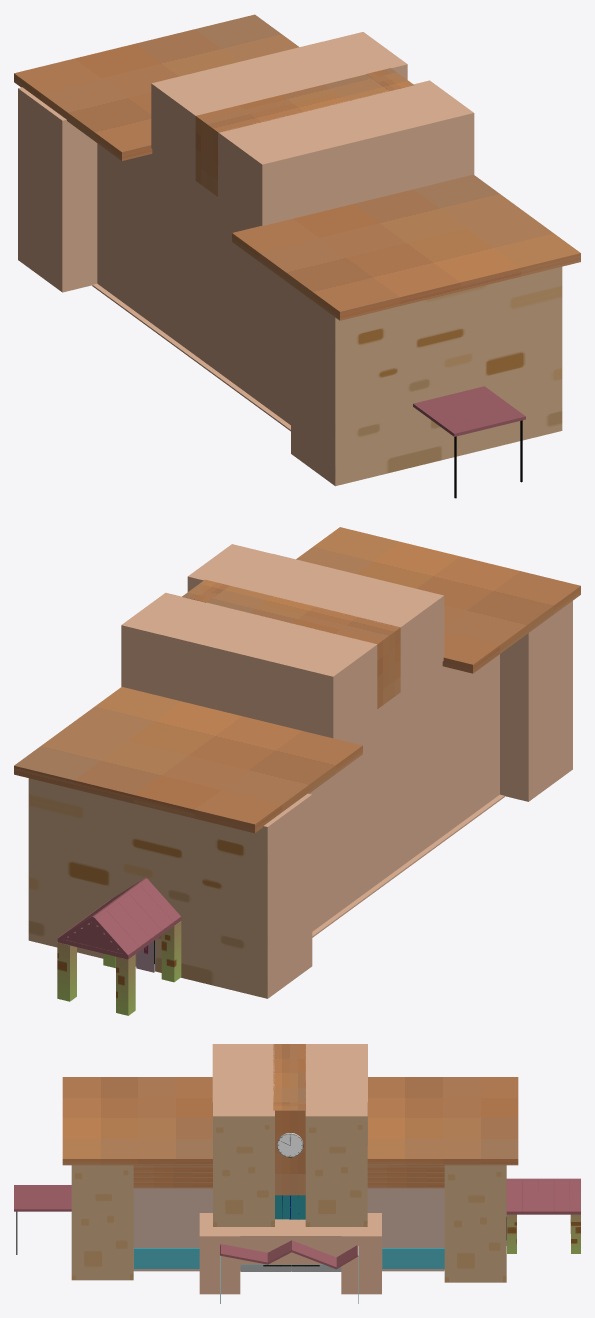
File: FachadaV5.obj
The picture shows the model from 3 angles, top to bottom: view 1: azimuth 30°, elevation 25°; view 2: azimuth 150°, elevation 25°; view 3: azimuth 270°, elevation 25°; orthographic projection. The views are drawn at different scales.
Parts seen in each view (by area): view 1: pasted__pasted__pCube2 pasted__group5 group6, pasted__pCube1 group, pasted__pCube1 group4, pasted__pasted__pasted__pasted__pCube2 pasted__pasted__pasted__g, pasted__pasted__pCube1 pasted__group4 group18, pasted__pCube2 group5, pasted__pasted__pasted__pCube2 pasted__pasted__group5 pasted__gr, group14 pasted__pasted__pasted__pasted__pCube2 pasted__pasted__p, group12 pasted__pasted__pasted__pasted__pasted__pCube2 pasted__p, pCube9, pasted__pasted__pasted__pasted__pasted__pasted__pCube2 pasted__p, pCube1; view 2: pasted__pCube2 group5, pasted__pCube1 group, pasted__pasted__pCube1 pasted__group4 group18, pasted__pasted__pasted__pCube2 pasted__pasted__group5 pasted__gr, pasted__pCube1 group4, pasted__pasted__pCube2 pasted__group5 group6, pasted__pasted__pasted__pasted__pCube2 pasted__pasted__pasted__g, group14 pasted__pasted__pasted__pasted__pCube2 pasted__pasted__p, pasted__pasted__pasted__pasted__pasted__pasted__pCube2 pasted__p, group12 pasted__pasted__pasted__pasted__pasted__pCube2 pasted__p, pCube1, group47 pasted__pasted__pCube7 pasted__group46 (+8 smaller); view 3: pasted__pasted__pCube1 pasted__group4 group18, pasted__pCube1 group4, pasted__pasted__pCube1 pasted__group group1, pasted__pasted__pasted__pasted__pasted__pasted__pCube2 pasted__p, group12 pasted__pasted__pasted__pasted__pasted__pCube2 pasted__p, pasted__pCube2 group5, pasted__pasted__pCube2 pasted__group5 group6, pasted__pasted__pasted__pasted__pCube2 pasted__pasted__pasted__g, pasted__pasted__pasted__pCube2 pasted__pasted__group5 pasted__gr, pasted__pasted__pasted__pCube2 pasted__pasted__group19 pasted__g, pasted__pasted__pasted__pasted__pasted__pCube2 pasted__pasted__p, pasted__pCube2 group19 (+24 smaller).
Boxes of the visible parts, left/top/right/bottom form: pasted__pasted__pCube2 pasted__group5 group6: left=291, top=266, right=562, bottom=486; pasted__pCube1 group: left=97, top=143, right=290, bottom=424; pasted__pCube1 group4: left=232, top=174, right=580, bottom=320; pasted__pasted__pasted__pasted__pCube2 pasted__pasted__pasted__g: left=218, top=90, right=433, bottom=226; pasted__pasted__pCube1 pasted__group4 group18: left=14, top=14, right=299, bottom=160; pasted__pCube2 group5: left=18, top=87, right=97, bottom=292; pasted__pasted__pasted__pCube2 pasted__pasted__group5 pasted__gr: left=151, top=41, right=366, bottom=180; group14 pasted__pasted__pasted__pasted__pCube2 pasted__pasted__p: left=195, top=74, right=389, bottom=196; group12 pasted__pasted__pasted__pasted__pasted__pCube2 pasted__p: left=390, top=80, right=474, bottom=183; pCube9: left=413, top=386, right=525, bottom=436; pasted__pasted__pasted__pasted__pasted__pasted__pCube2 pasted__p: left=323, top=32, right=407, bottom=79; pCube1: left=92, top=283, right=290, bottom=431; pasted__pCube2 group5: left=28, top=778, right=312, bottom=998; pasted__pCube1 group: left=309, top=654, right=499, bottom=931; pasted__pasted__pCube1 pasted__group4 group18: left=14, top=687, right=362, bottom=833; pasted__pasted__pasted__pCube2 pasted__pasted__group5 pasted__gr: left=162, top=602, right=377, bottom=738; pasted__pCube1 group4: left=296, top=527, right=580, bottom=673; pasted__pasted__pCube2 pasted__group5 group6: left=500, top=601, right=572, bottom=801; pasted__pasted__pasted__pasted__pCube2 pasted__pasted__pasted__g: left=230, top=554, right=444, bottom=691; group14 pasted__pasted__pasted__pasted__pCube2 pasted__pasted__p: left=207, top=585, right=400, bottom=708; pasted__pasted__pasted__pasted__pasted__pasted__pCube2 pasted__p: left=121, top=592, right=205, bottom=696; group12 pasted__pasted__pasted__pasted__pasted__pCube2 pasted__p: left=187, top=544, right=271, bottom=591; pCube1: left=312, top=794, right=504, bottom=937; group47 pasted__pasted__pCube7 pasted__group46: left=116, top=954, right=135, bottom=1015; pasted__pasted__pCube1 pasted__group4 group18: left=367, top=1077, right=518, bottom=1165; pasted__pCube1 group4: left=62, top=1077, right=212, bottom=1165; pasted__pasted__pCube1 pasted__group group1: left=133, top=1188, right=444, bottom=1271; pasted__pasted__pasted__pasted__pasted__pasted__pCube2 pasted__p: left=275, top=1102, right=367, bottom=1226; group12 pasted__pasted__pasted__pasted__pasted__pCube2 pasted__p: left=213, top=1102, right=274, bottom=1226; pasted__pCube2 group5: left=444, top=1165, right=506, bottom=1282; pasted__pasted__pCube2 pasted__group5 group6: left=71, top=1165, right=133, bottom=1280; pasted__pasted__pasted__pasted__pCube2 pasted__pasted__pasted__g: left=212, top=1044, right=444, bottom=1268; pasted__pasted__pasted__pCube2 pasted__pasted__group5 pasted__gr: left=305, top=1044, right=367, bottom=1144; pasted__pasted__pasted__pCube2 pasted__pasted__group19 pasted__g: left=240, top=1219, right=341, bottom=1264; pasted__pasted__pasted__pasted__pasted__pCube2 pasted__pasted__p: left=183, top=1102, right=305, bottom=1268; pasted__pCube2 group19: left=341, top=1213, right=381, bottom=1294.
Size of the model in its own units: 10.48 by 8.1 by 24.43.
67 materials, 67 textured.
